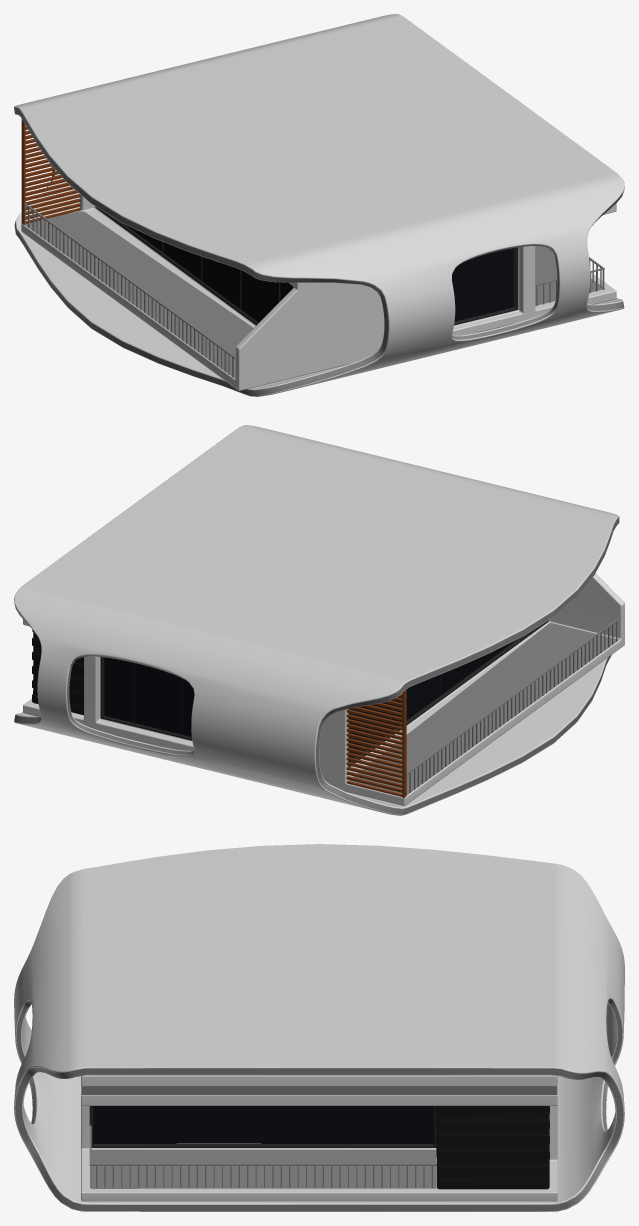
Rendered from SM_Building_FL_3.fbx.
The picture shows the model from 3 angles, top to bottom: view 1: azimuth 30°, elevation 25°; view 2: azimuth 150°, elevation 25°; view 3: azimuth 270°, elevation 25°; orthographic projection. The views are drawn at different scales.
Visible parts, largest first — view 1: SM_Building_FL_02; view 2: SM_Building_FL_02; view 3: SM_Building_FL_02.
Boxes of the visible parts, <box> form: SM_Building_FL_02: <box>14,14,624,396</box>; SM_Building_FL_02: <box>14,425,624,815</box>; SM_Building_FL_02: <box>14,844,624,1211</box>.
Bounding box in the file's own units: 2171 × 658 × 2507.
